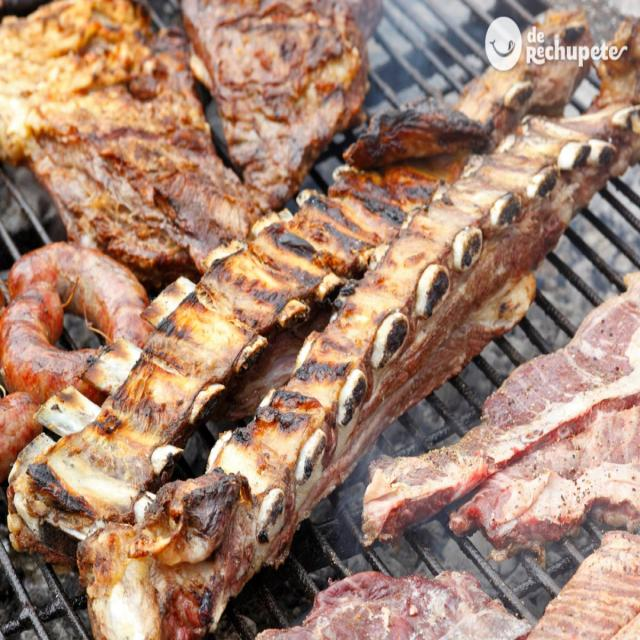carne de cerdo: (4, 18, 640, 618), (1, 1, 273, 270)
